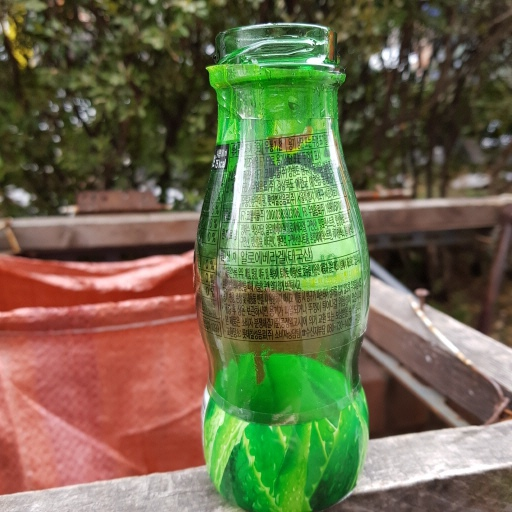Glass_4: (195, 24, 373, 512)
